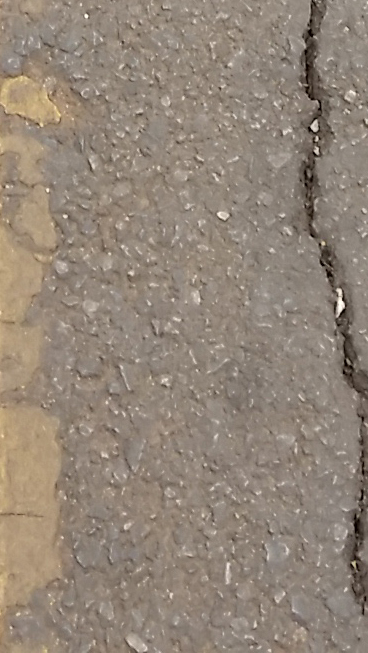A: (272, 1, 364, 620)
